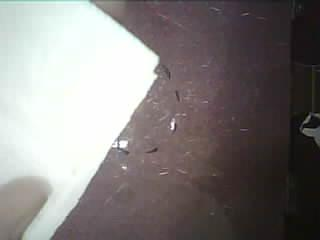paper: (0, 1, 158, 239)
